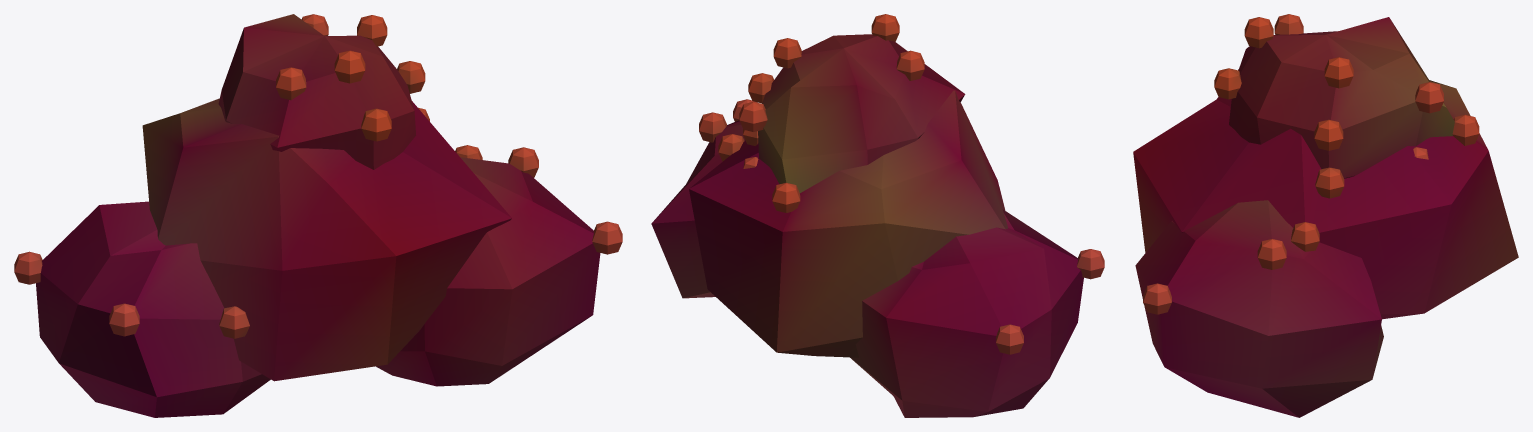
The model's file is Bush_Berry_01.glb.
3 views of the same model, side by side, from view 1: azimuth 30°, elevation 25°; view 2: azimuth 150°, elevation 25°; view 3: azimuth 270°, elevation 25° (orthographic). The views are drawn at different scales.
Parts seen in each view (by area): view 1: Bush_Berry_01; view 2: Bush_Berry_01; view 3: Bush_Berry_01.
Part boxes in pixels (x1,y1,x2,y2): Bush_Berry_01: (14, 14, 622, 417); Bush_Berry_01: (651, 14, 1104, 417); Bush_Berry_01: (1133, 14, 1518, 417).
Size of the model in its own units: 1.52 by 1.07 by 1.16.
